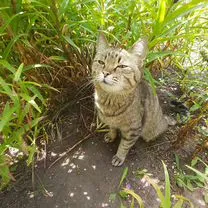cat: (80, 26, 177, 169)
